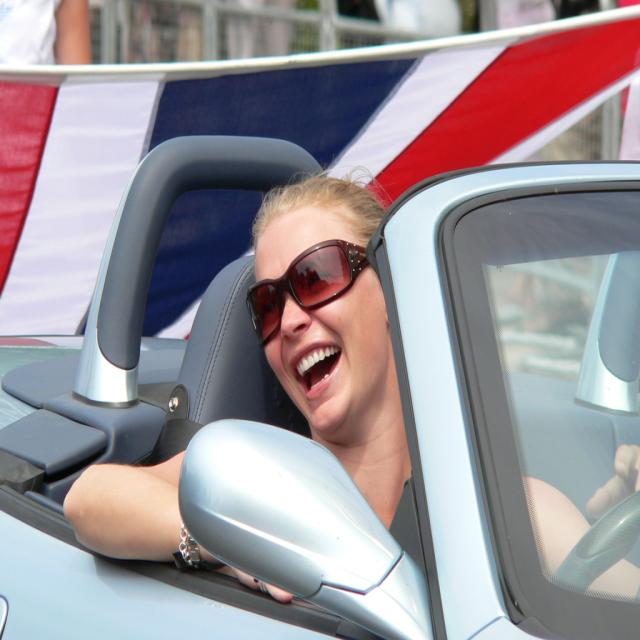car: (46, 64, 637, 638)
